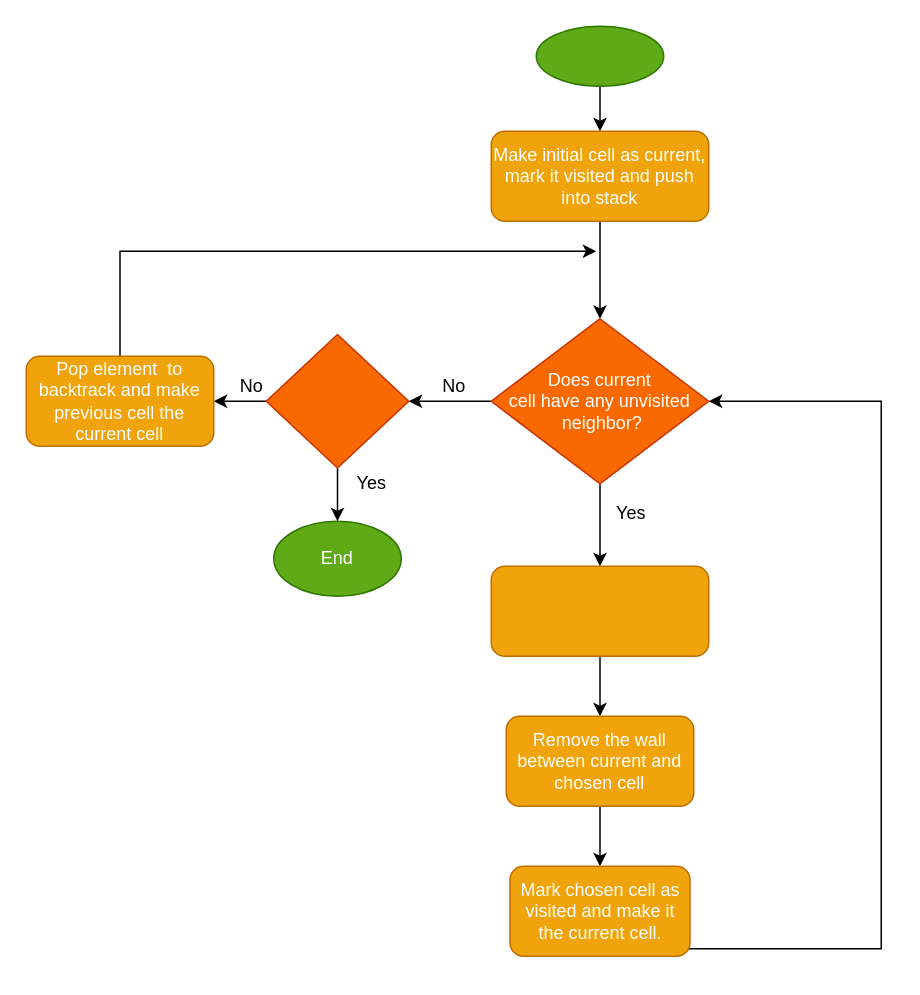
Some shapes in this 920 by 995 pixel diagram are drawn without their labels. The shapes that lost their labels are listed below. From the top down, each one's box as (x1, y1, x2, y2) in pixels, then its label:
(535, 25, 664, 86): Start
(265, 333, 409, 468): Is the stack empty
(490, 565, 709, 656): Choose any random unvisited neighbor and Push chosen neighbour cell to stack
